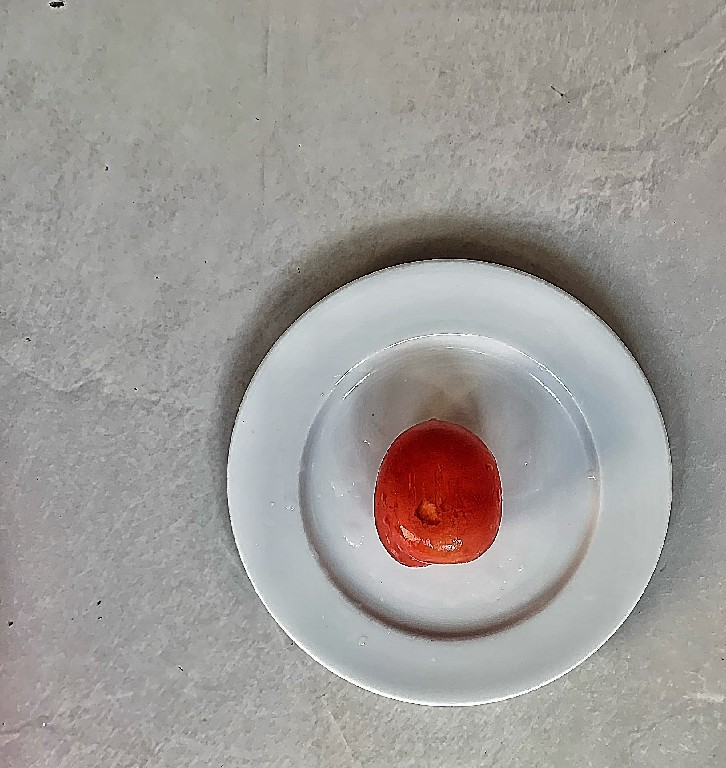NG: (374, 418, 499, 565)
